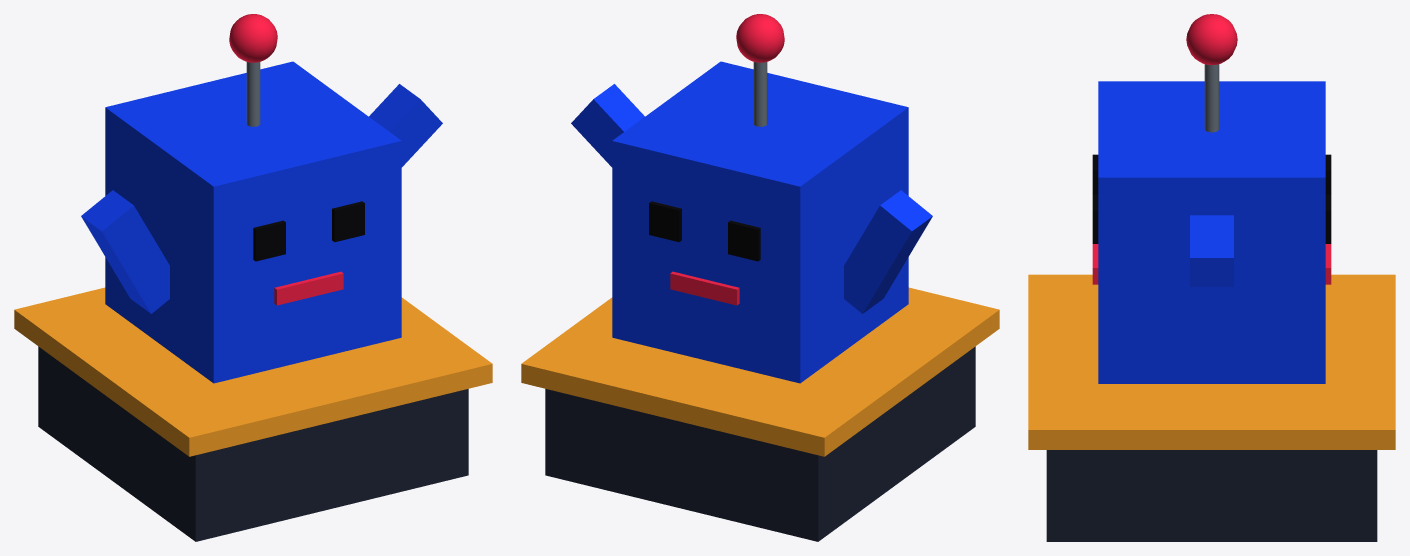
File: mascot.glb
3 views of the same model, side by side, from view 1: azimuth 30°, elevation 25°; view 2: azimuth 150°, elevation 25°; view 3: azimuth 270°, elevation 25° (orthographic). The views are drawn at different scales.
Size of the model in its own units: 1.12 by 1.37 by 1.
